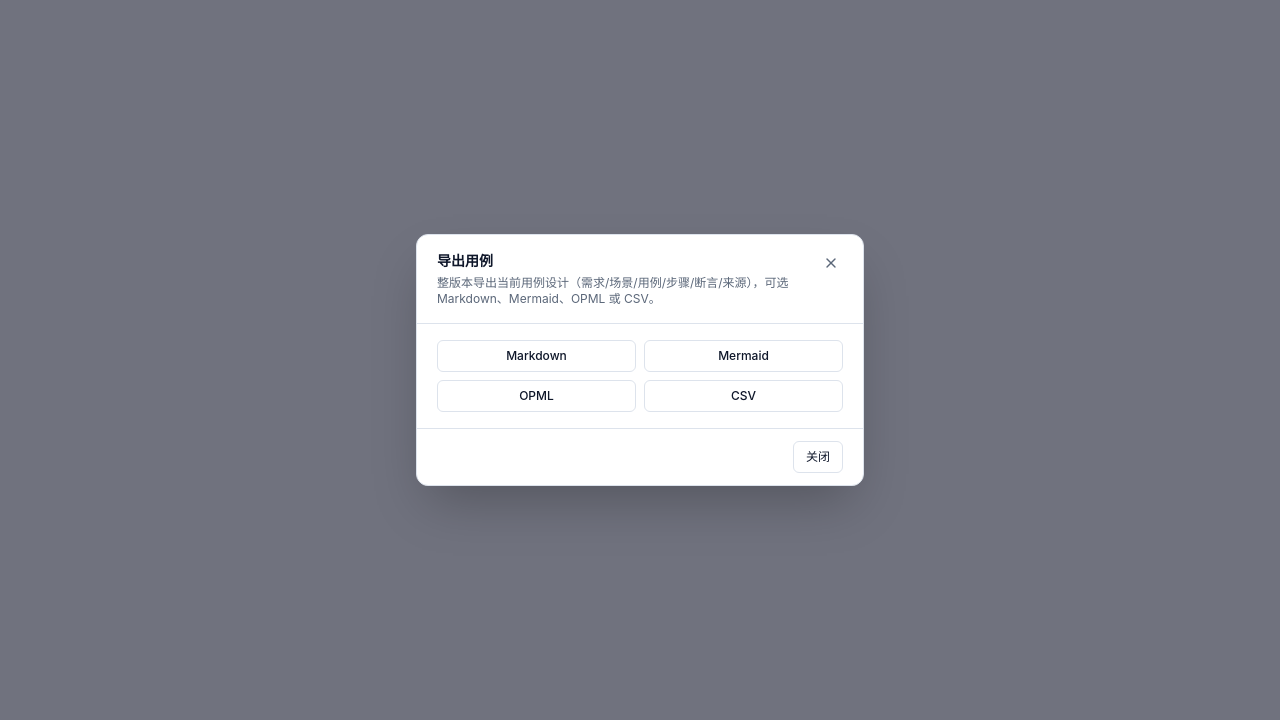
Test case: ExportCasesDialog › creates and downloads a mermaid export
Click the button "Mermaid": (744, 356) [644,340,843,372]
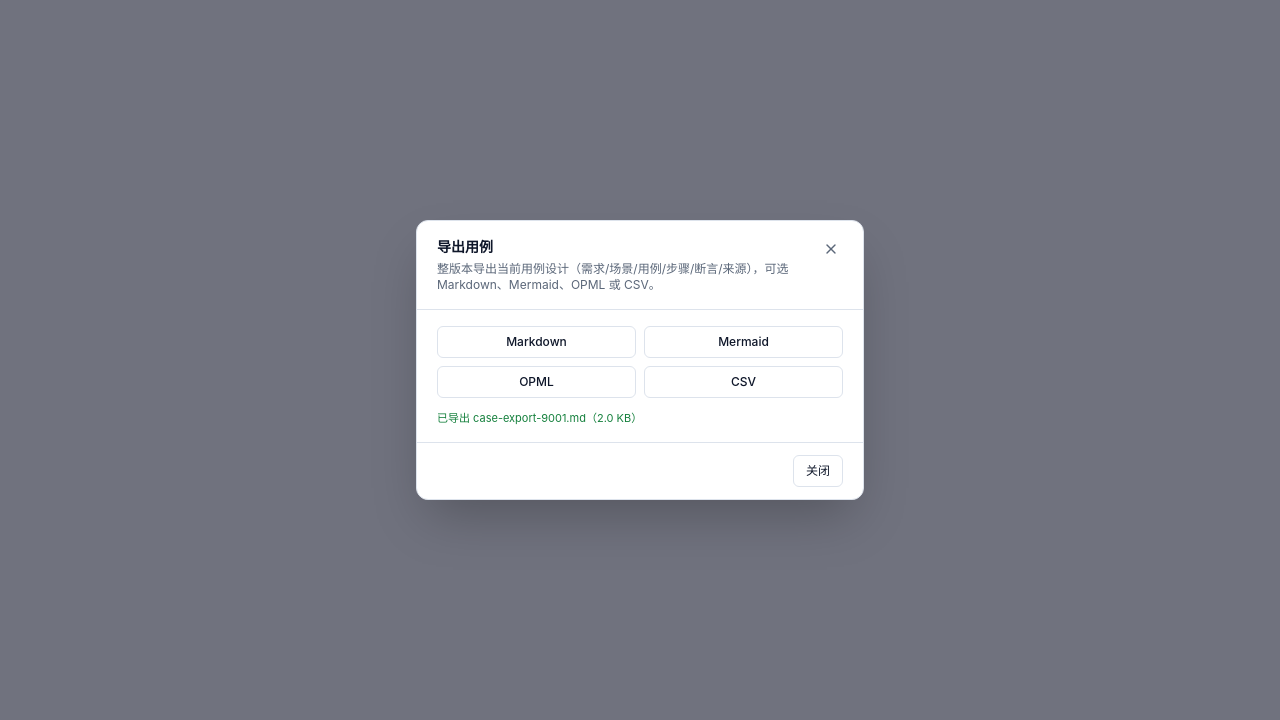
Expected: the message with test id "export-status" shows "已导出 case-export-9001.md", [437,411,642,425]
